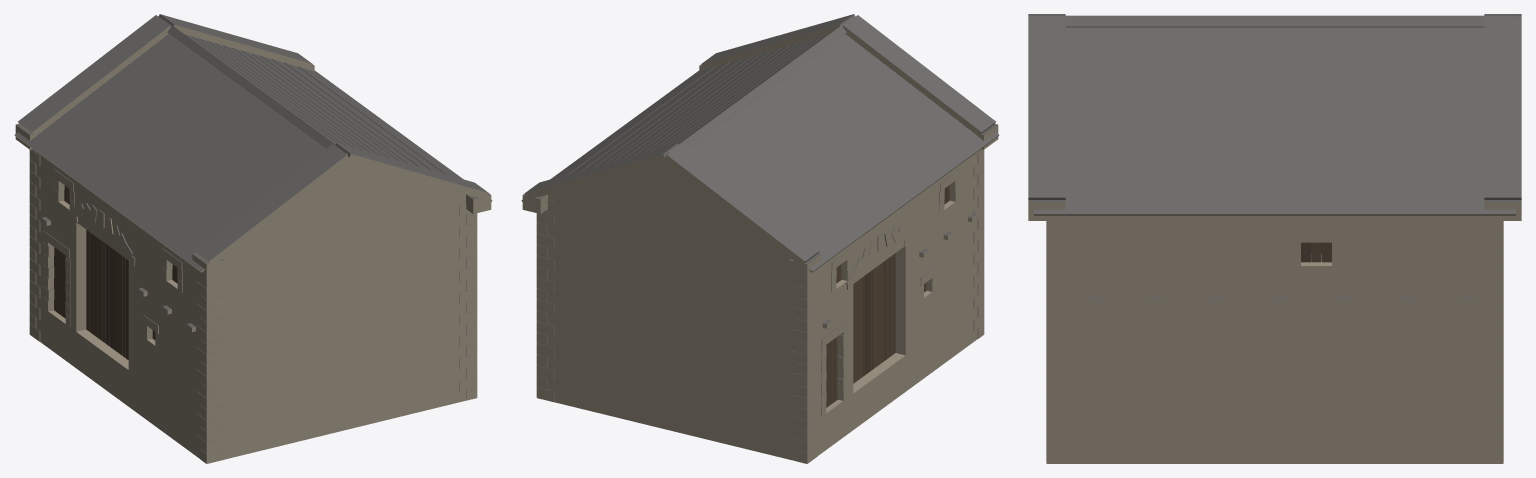
The model's file is context.dales.barn_12.glb.
3 views of the same model, side by side, from view 1: azimuth 30°, elevation 25°; view 2: azimuth 150°, elevation 25°; view 3: azimuth 270°, elevation 25° (orthographic). The views are drawn at different scales.
Visible parts, largest first — view 1: main__stone_a98, main__slate_666, main__paint_654, main__paint_554, main__paint_544, main__paint_543; view 2: main__stone_a98, main__slate_666, main__paint_654, main__paint_554, main__paint_544, main__paint_543; view 3: main__stone_a98, main__slate_666.
Boxes of the visible parts, x1,y1,x2,y2 form: main__stone_a98: [15, 24, 492, 463]; main__slate_666: [15, 14, 490, 453]; main__paint_654: [61, 185, 155, 357]; main__paint_554: [54, 232, 122, 355]; main__paint_544: [86, 230, 177, 359]; main__paint_543: [106, 244, 112, 347]; main__stone_a98: [521, 24, 998, 463]; main__slate_666: [523, 14, 998, 453]; main__paint_654: [827, 263, 926, 407]; main__paint_554: [826, 256, 892, 407]; main__paint_544: [869, 185, 949, 371]; main__paint_543: [863, 272, 869, 376]; main__stone_a98: [1028, 26, 1521, 463]; main__slate_666: [1028, 14, 1521, 450].
Size of the model in its own units: 8.34 by 7.71 by 9.48.
